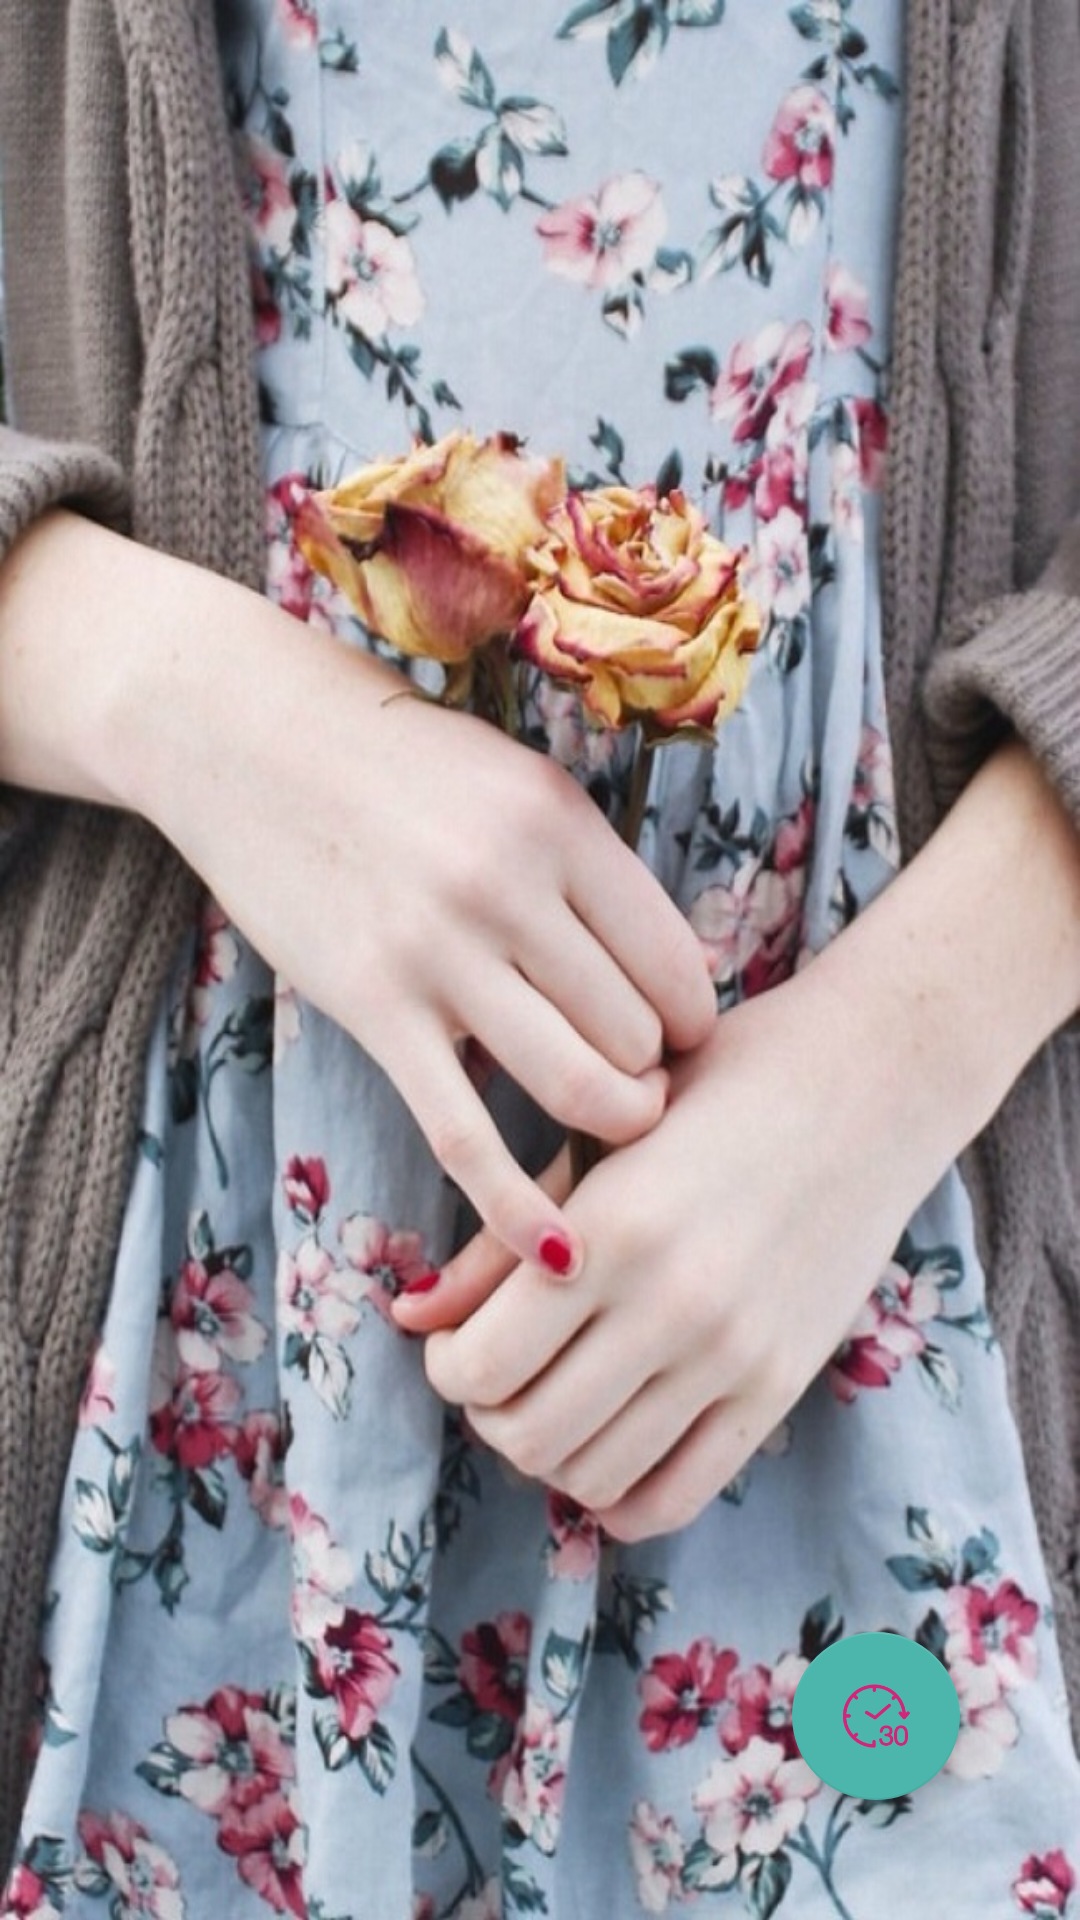

Point at icon controls on the screen. Image size 1080 x 1920, points as (x,y).
add sche: (876,1716)
